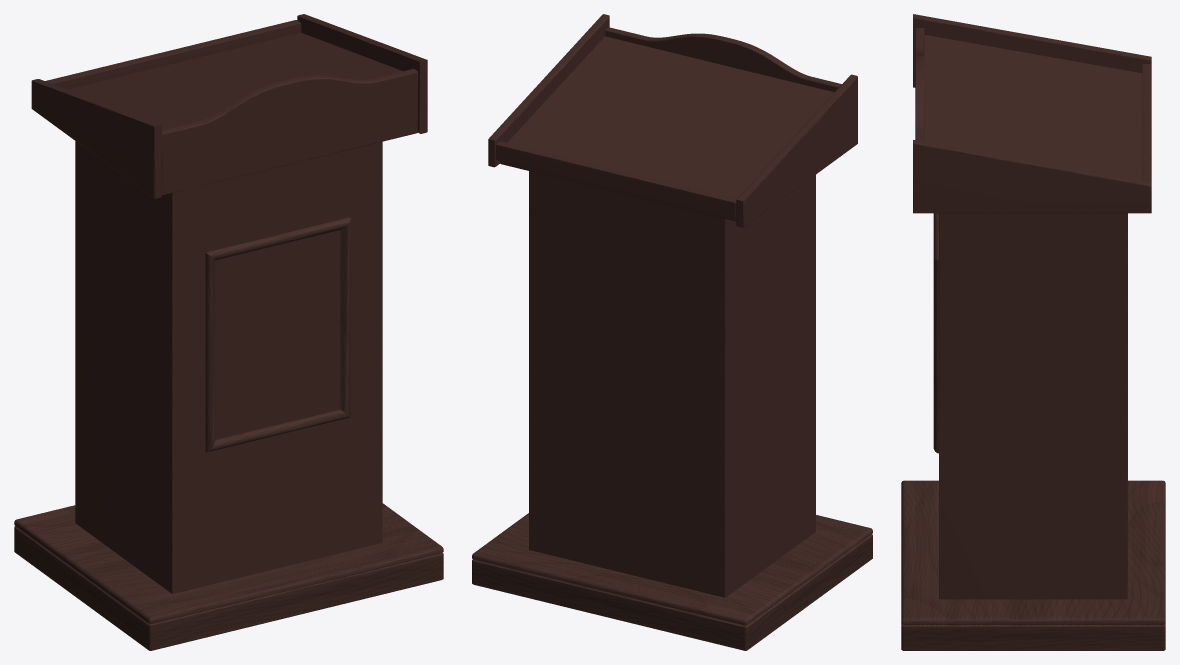
File: Lectern.fbx
The picture shows the model from 3 angles, left to right: view 1: azimuth 30°, elevation 25°; view 2: azimuth 150°, elevation 25°; view 3: azimuth 270°, elevation 25°; orthographic projection. The views are drawn at different scales.
Parts seen in each view (by area): view 1: Lectern; view 2: Lectern; view 3: Lectern.
Part boxes in pixels (x1=…): Lectern: x1=14, y1=14, x2=443, y2=650; Lectern: x1=472, y1=14, x2=872, y2=650; Lectern: x1=901, y1=14, x2=1165, y2=650.
Bounding box in the file's own units: 0.7 × 1.2 × 0.56.
Materials: 1 (1 with a texture image).
